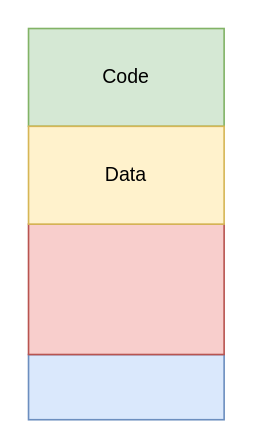
Image size: 253x448. Some labels were removed from this diagram. Each missing label, with the centre of its shape:
"Heap" belongs at point (125, 288).
"Stack" belongs at point (125, 386).
